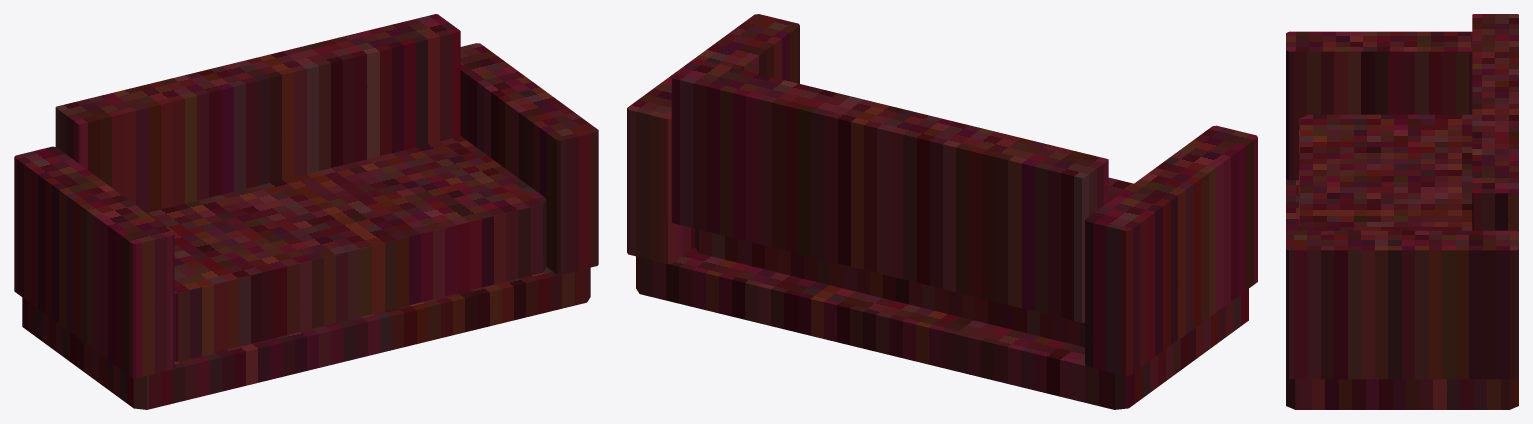
File: Couch_DarkRed.glb
3 views of the same model, side by side, from view 1: azimuth 30°, elevation 25°; view 2: azimuth 150°, elevation 25°; view 3: azimuth 270°, elevation 25° (orthographic). The views are drawn at different scales.
Visible parts, largest first — view 1: Couch; view 2: Couch; view 3: Couch.
Part boxes in pixels (box(x1,y1,x2,y2)): Couch: box(14, 14, 598, 409); Couch: box(627, 14, 1257, 409); Couch: box(1286, 14, 1518, 409).
Bounding box in the file's own units: 2 × 0.85 × 0.9.
Materials: 1 (1 with a texture image).
